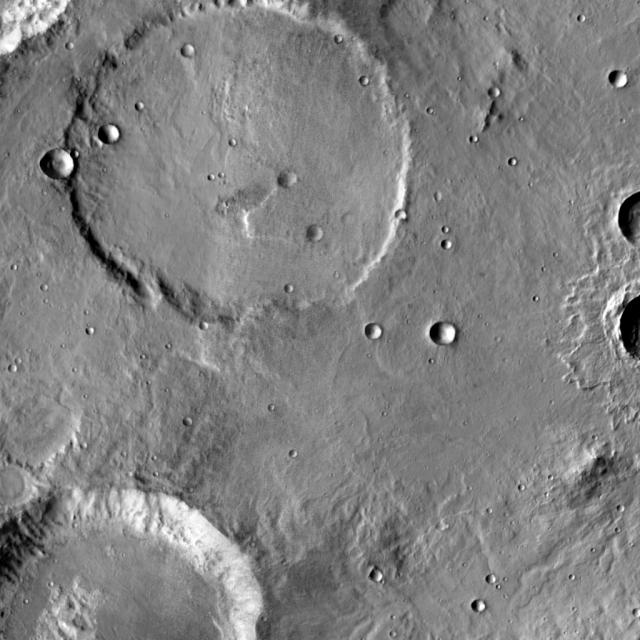crater: (71, 0, 420, 329), (1, 486, 266, 640), (386, 0, 435, 39), (0, 466, 42, 510), (48, 150, 80, 181), (438, 323, 463, 348), (105, 126, 126, 146), (285, 175, 303, 193), (616, 72, 634, 89), (313, 229, 331, 245), (372, 325, 389, 341), (188, 46, 203, 61), (478, 601, 494, 615), (458, 10, 472, 24), (222, 207, 237, 220), (374, 571, 388, 583), (448, 240, 460, 252), (402, 211, 413, 222), (493, 577, 504, 587), (496, 89, 507, 99), (350, 216, 360, 226), (142, 103, 152, 113), (502, 8, 512, 18), (191, 421, 201, 430), (208, 324, 217, 334), (440, 193, 450, 202), (368, 77, 378, 86), (292, 288, 301, 297), (476, 137, 486, 145), (16, 366, 25, 374), (344, 39, 352, 47), (237, 143, 245, 151), (442, 220, 450, 228), (72, 44, 80, 52), (48, 285, 56, 293), (93, 328, 101, 336), (444, 525, 452, 533), (516, 159, 524, 166), (210, 170, 217, 178), (78, 152, 86, 159), (296, 452, 304, 459), (80, 436, 88, 443), (617, 499, 624, 506), (578, 10, 586, 16), (10, 258, 18, 264), (494, 331, 502, 337), (15, 352, 22, 358), (270, 403, 276, 409)
